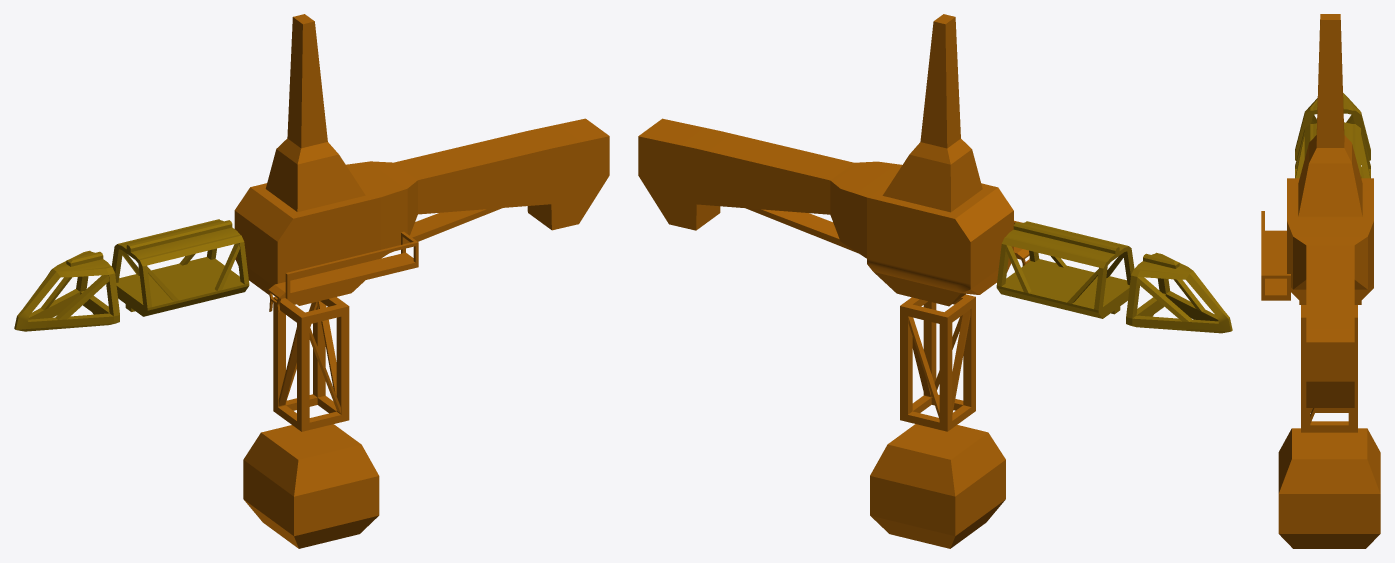
The model's file is MESH_CranePACK.fbx.
3 views of the same model, side by side, from view 1: azimuth 30°, elevation 25°; view 2: azimuth 150°, elevation 25°; view 3: azimuth 270°, elevation 25° (orthographic).
Parts seen in each view (by area): view 1: Crane_ControlModule, Crane_GroundSupport, Crane_ArmSegment, Crane_Support, Crane_ArmEnd; view 2: Crane_ControlModule, Crane_GroundSupport, Crane_ArmSegment, Crane_Support, Crane_ArmEnd; view 3: Crane_ControlModule, Crane_GroundSupport, Crane_Support, Crane_ArmSegment, Crane_ArmEnd.
Part boxes in pixels (x1,y1,x2,y2): Crane_ControlModule: (234, 14, 609, 312); Crane_GroundSupport: (243, 424, 379, 548); Crane_ArmSegment: (111, 219, 249, 316); Crane_Support: (273, 296, 349, 431); Crane_ArmEnd: (14, 250, 119, 331); Crane_ControlModule: (638, 14, 1030, 306); Crane_GroundSupport: (870, 424, 1005, 548); Crane_ArmSegment: (996, 221, 1134, 318); Crane_Support: (900, 294, 975, 431); Crane_ArmEnd: (1126, 252, 1232, 333); Crane_ControlModule: (1261, 14, 1373, 407); Crane_GroundSupport: (1278, 428, 1380, 548); Crane_Support: (1301, 305, 1357, 432); Crane_ArmSegment: (1295, 122, 1370, 178); Crane_ArmEnd: (1295, 93, 1370, 164).
Size of the model in its own units: 37.25 by 31.23 by 6.56.
